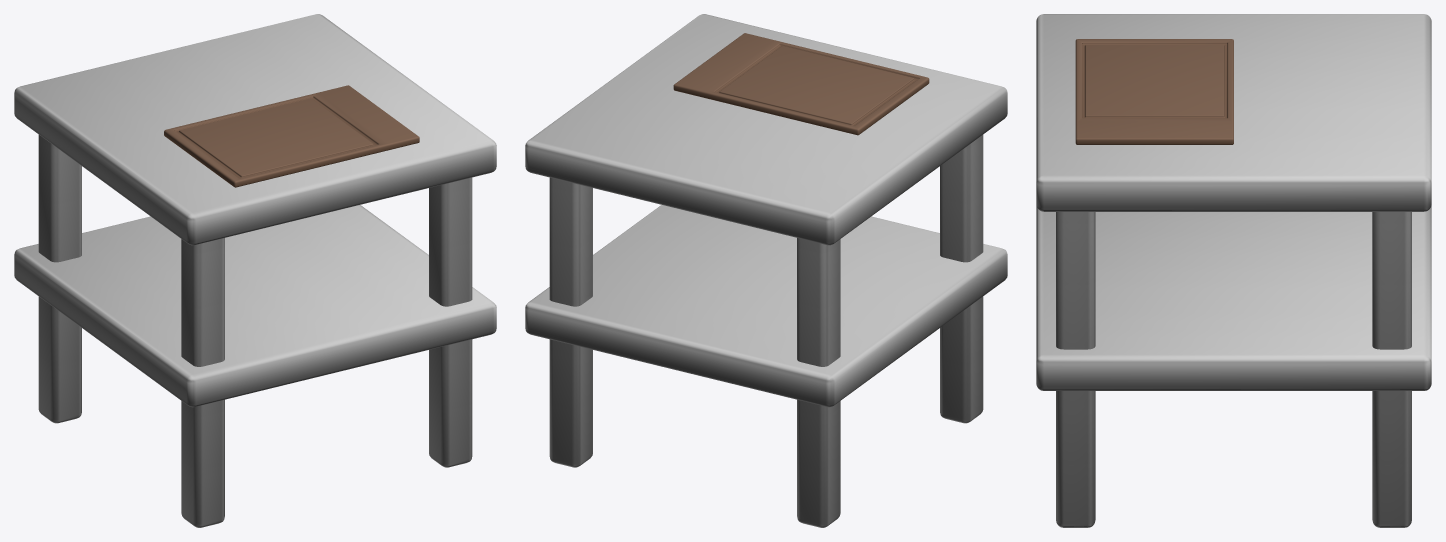
File: HH_Chopper 2.fbx
3 renders of one model, left to right at view 1: azimuth 30°, elevation 25°; view 2: azimuth 150°, elevation 25°; view 3: azimuth 270°, elevation 25°, orthographic. The views are drawn at different scales.
Parts seen in each view (by area): view 1: ChoppingStation, ChoppingBoard; view 2: ChoppingStation, ChoppingBoard; view 3: ChoppingStation, ChoppingBoard.
Part boxes in pixels (<box>): ChoppingStation: <box>14,14,496,527</box>; ChoppingBoard: <box>164,85,419,187</box>; ChoppingStation: <box>525,14,1007,527</box>; ChoppingBoard: <box>673,33,929,135</box>; ChoppingStation: <box>1036,14,1431,527</box>; ChoppingBoard: <box>1075,39,1233,144</box>.
Bounding box in the file's own units: 100 × 102 × 100.
1 material, 1 textured.
